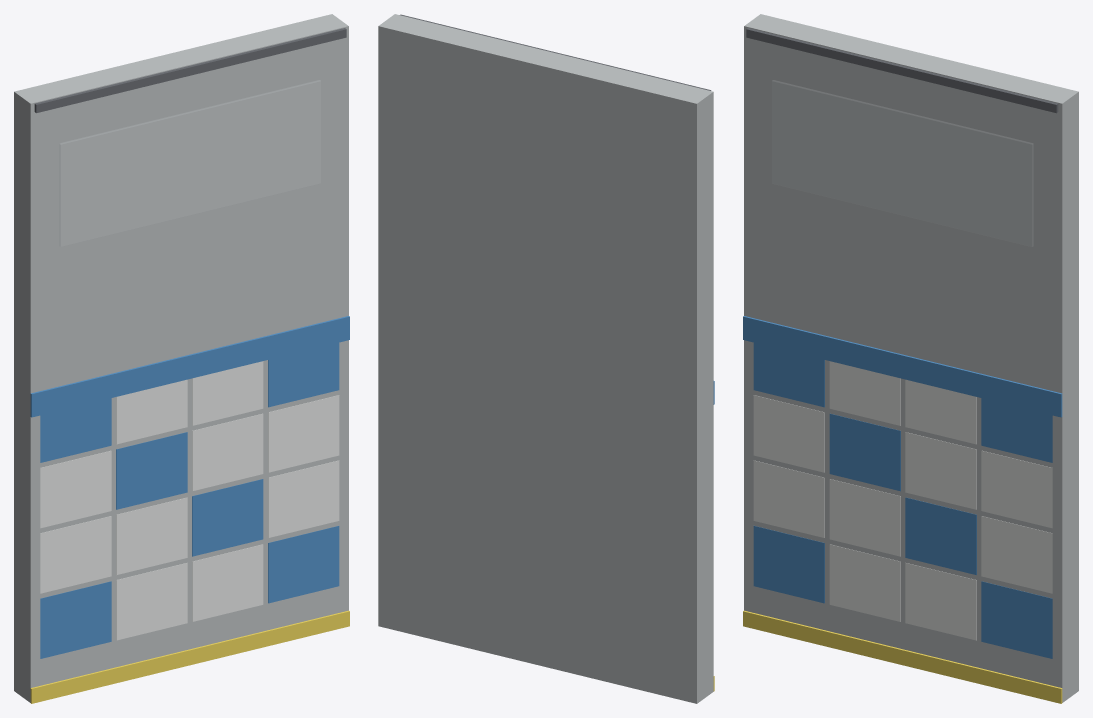
The model's file is public-swimming-baths-and-poolside-baths-wall-module-2aba7a75__35241.glb.
The picture shows the model from 3 angles, left to right: view 1: azimuth 30°, elevation 25°; view 2: azimuth 150°, elevation 25°; view 3: azimuth 330°, elevation 25°; orthographic projection.
Parts seen in each view (by area): view 1: baths-wall-module; view 2: baths-wall-module; view 3: baths-wall-module.
Boxes of the visible parts, x1,y1,x2,y2 form: baths-wall-module: (14, 14, 349, 703); baths-wall-module: (378, 14, 714, 703); baths-wall-module: (743, 14, 1078, 703).
Size of the model in its own units: 2 by 3.6 by 0.2001.
